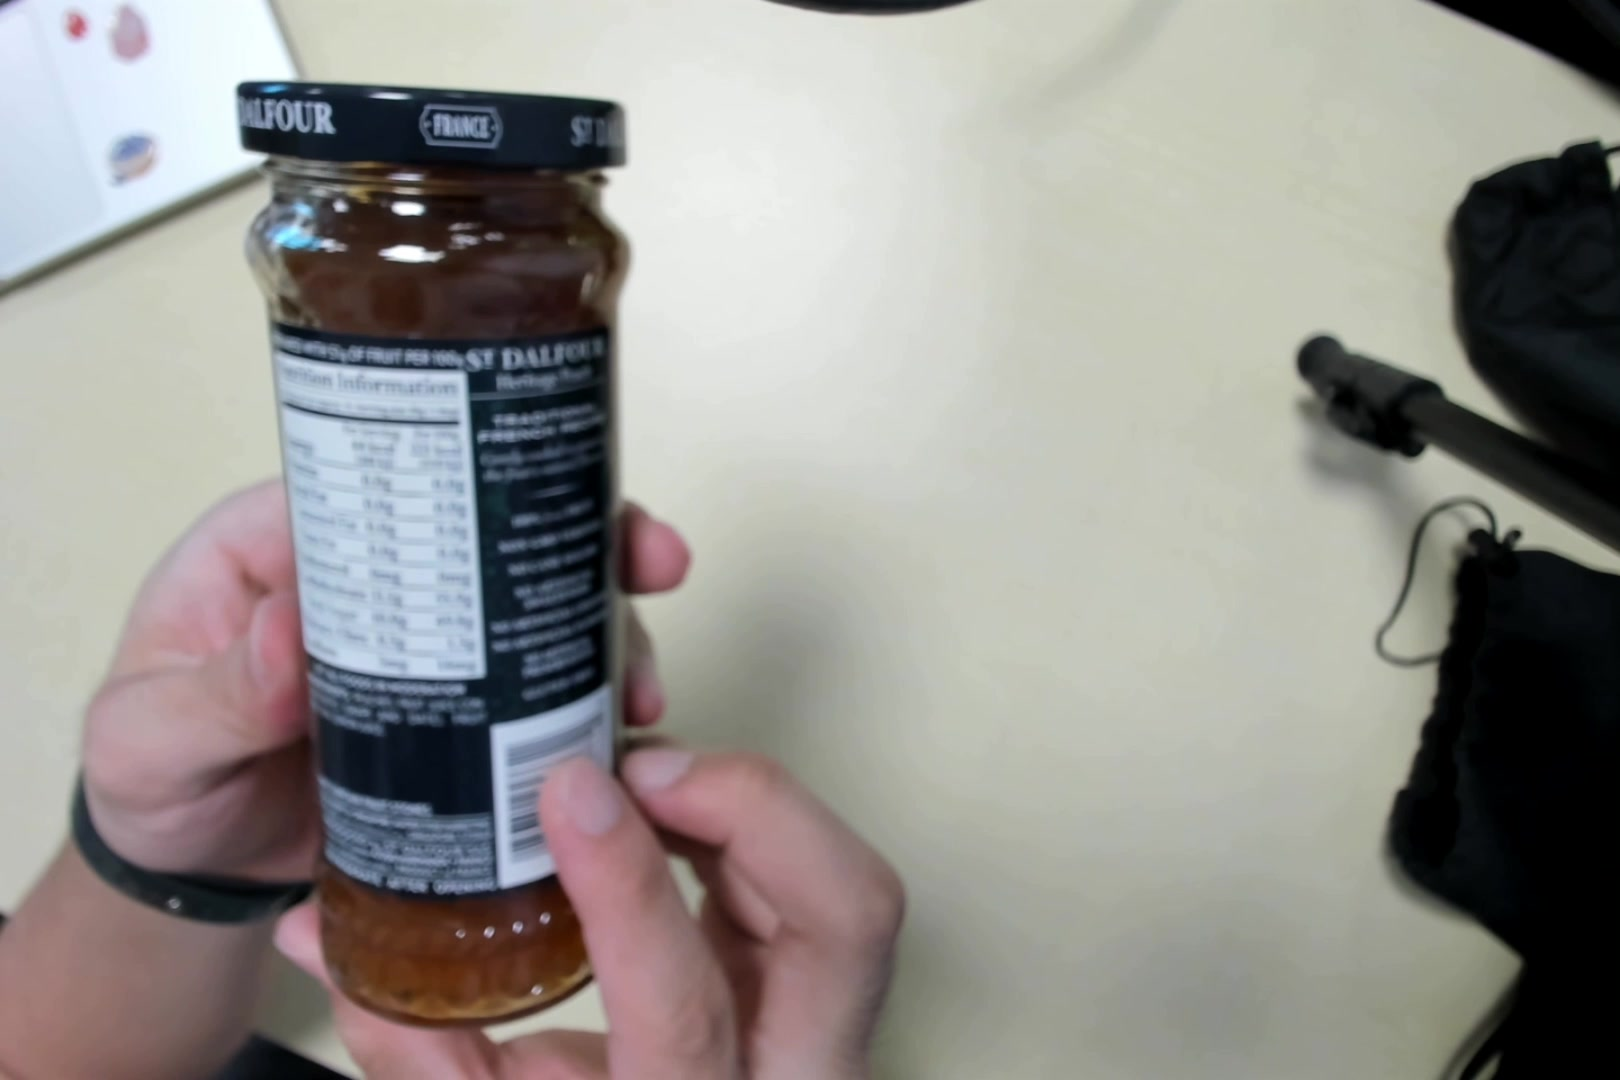Jam_200-299g_Halal_Healthy: (233, 74, 627, 1039)
